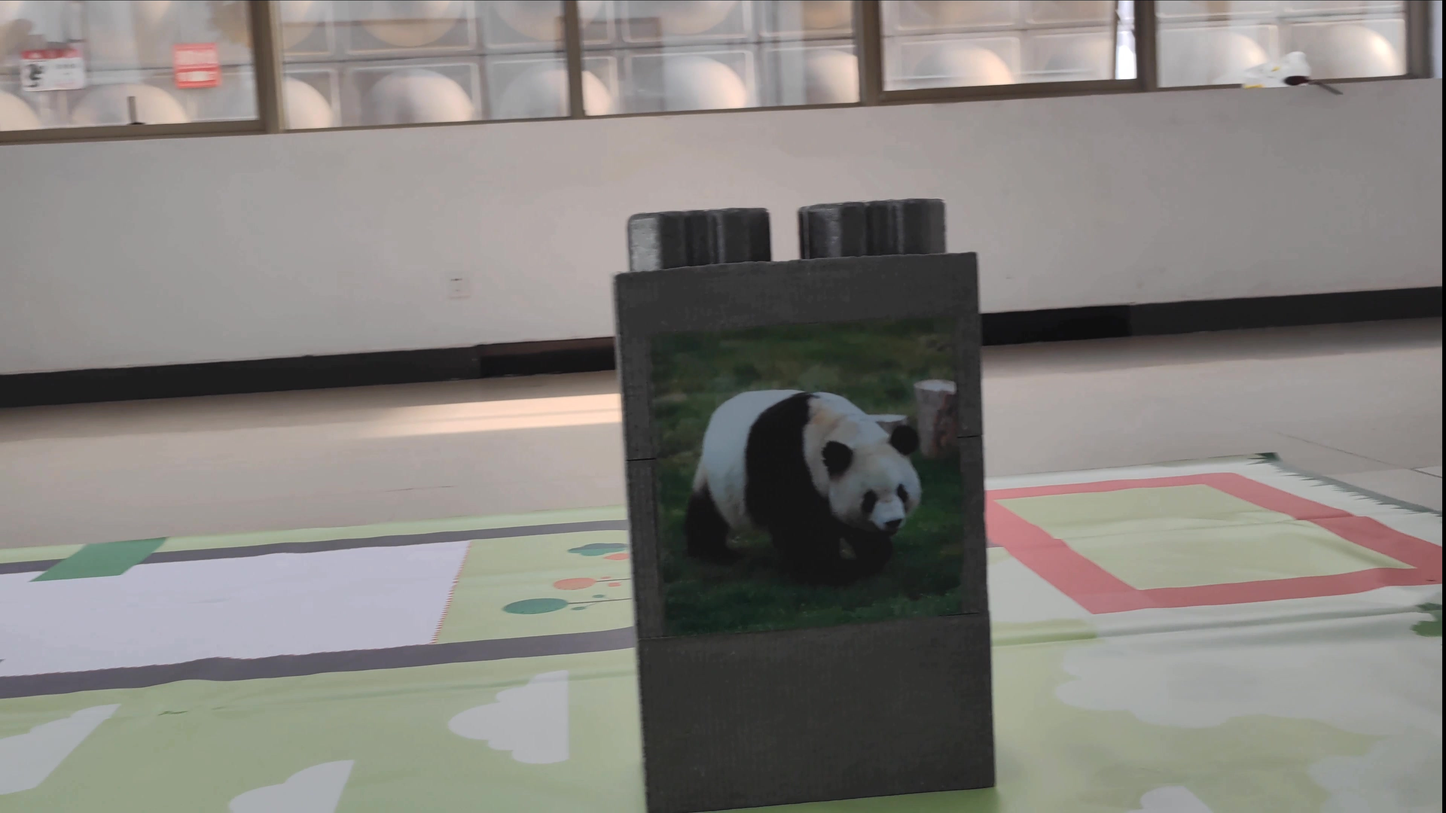panda: (653, 380, 939, 611)
